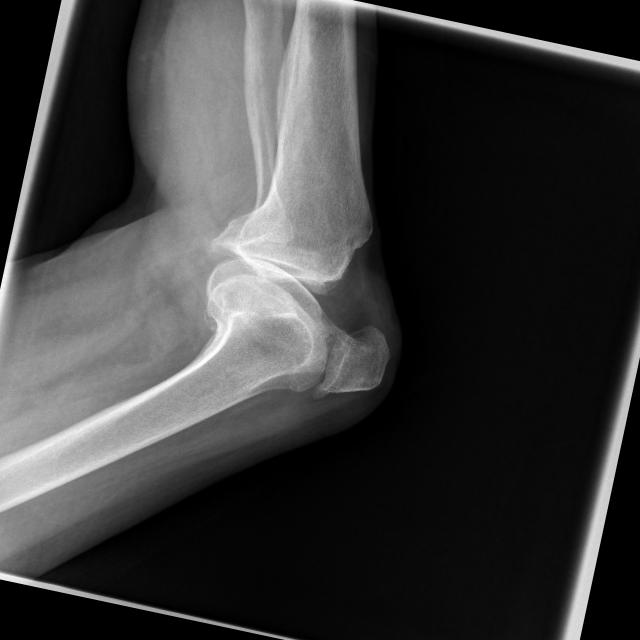Knee: (174, 170, 420, 418)
